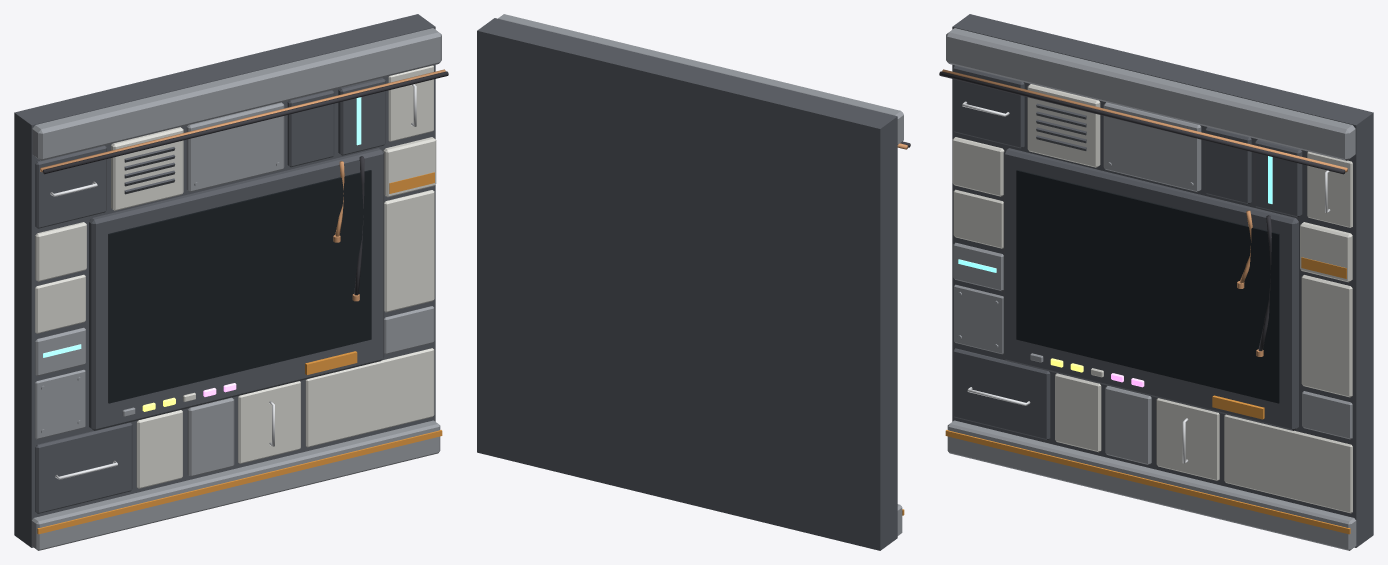
File: wall_screen_dead.glb
The picture shows the model from 3 angles, left to right: view 1: azimuth 30°, elevation 25°; view 2: azimuth 150°, elevation 25°; view 3: azimuth 330°, elevation 25°; orthographic projection.
Parts seen in each view (by area): view 1: wall_screen_dead; view 2: wall_screen_dead; view 3: wall_screen_dead.
Part boxes in pixels (bbox=[...]): wall_screen_dead: bbox=[14, 14, 448, 550]; wall_screen_dead: bbox=[477, 14, 910, 550]; wall_screen_dead: bbox=[939, 14, 1373, 550].
Bounding box in the file's own units: 4 × 4 × 0.525.
